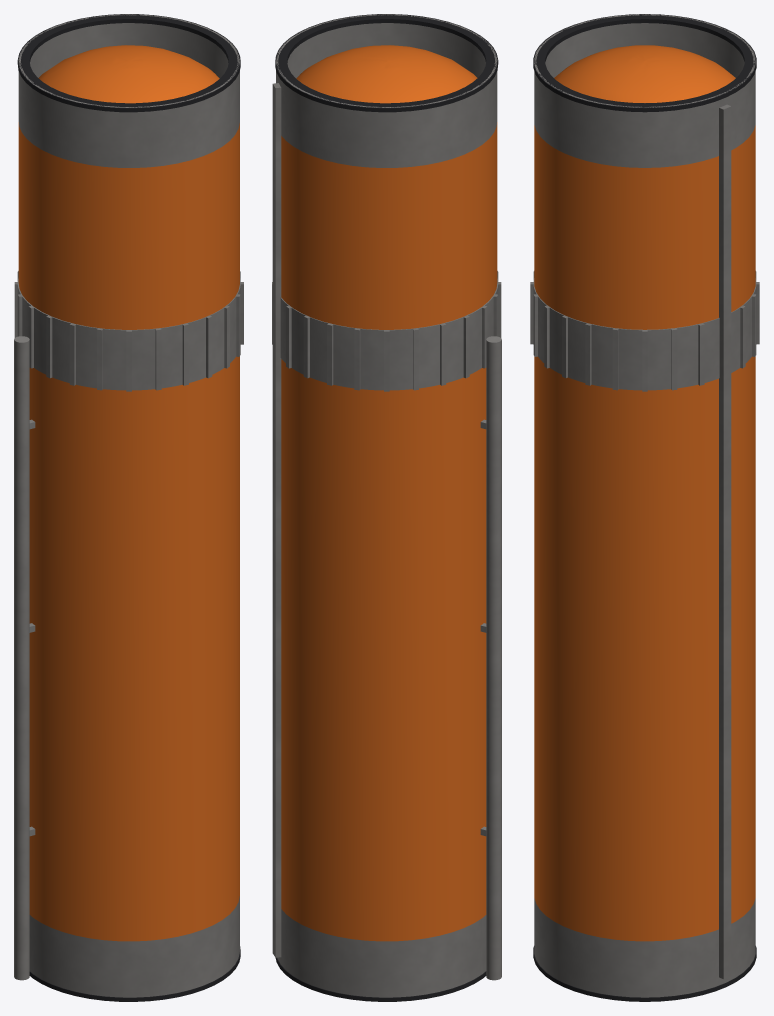
The model's file is tank02_hydrolox_m.glb.
3 views of the same model, side by side, from view 1: azimuth 30°, elevation 25°; view 2: azimuth 150°, elevation 25°; view 3: azimuth 270°, elevation 25° (orthographic).
Parts seen in each view (by area): view 1: tank, skirts, intertank, lox_feedline, stack_flanges; view 2: tank, skirts, intertank, lox_feedline, raceway, stack_flanges; view 3: tank, skirts, intertank, raceway, stack_flanges.
Part boxes in pixels (left/top/right/bottom): tank: left=18, top=45, right=239, bottom=941; skirts: left=18, top=14, right=239, bottom=997; intertank: left=14, top=271, right=243, bottom=391; lox_feedline: left=14, top=336, right=35, bottom=980; stack_flanges: left=17, top=14, right=240, bottom=1001; tank: left=281, top=45, right=497, bottom=941; skirts: left=276, top=14, right=497, bottom=997; intertank: left=272, top=271, right=501, bottom=391; lox_feedline: left=480, top=336, right=501, bottom=980; raceway: left=272, top=83, right=281, bottom=957; stack_flanges: left=275, top=14, right=498, bottom=1001; tank: left=534, top=45, right=755, bottom=941; skirts: left=534, top=14, right=755, bottom=997; intertank: left=530, top=271, right=759, bottom=391; raceway: left=719, top=104, right=731, bottom=979; stack_flanges: left=533, top=14, right=756, bottom=1001.
Bounding box in the file's own units: 2.78 × 11.14 × 2.59.
Materials: 3 (1 with a texture image).
